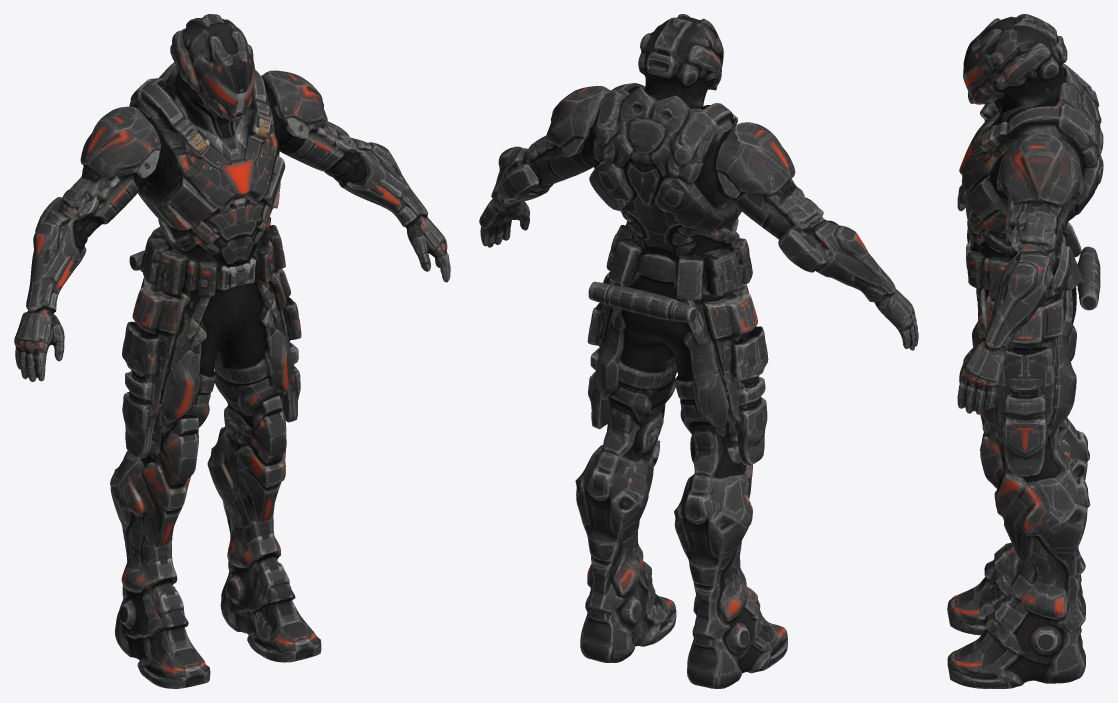
Rendered from drakos.glb.
3 renders of one model, left to right at view 1: azimuth 30°, elevation 25°; view 2: azimuth 150°, elevation 25°; view 3: azimuth 270°, elevation 25°, orthographic.
Size of the model in its own units: 1.34 by 1.9 by 0.4233.
Materials: 1 (1 with a texture image).
